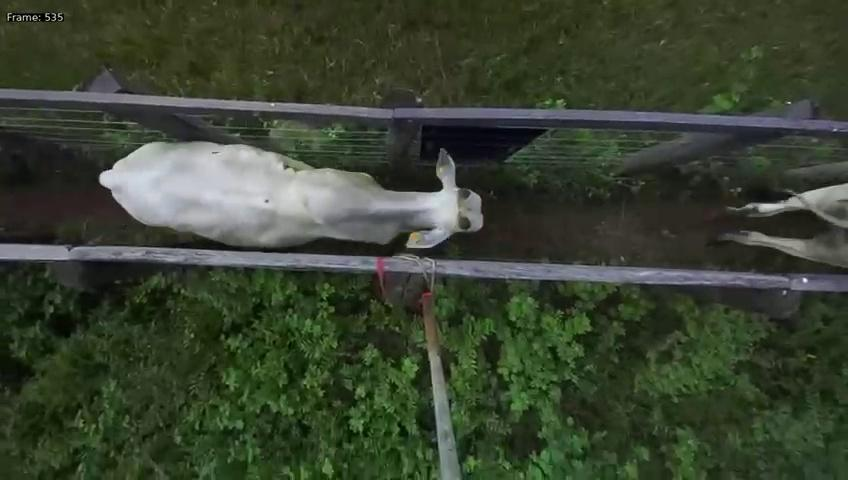cattle: (92, 130, 486, 264)
